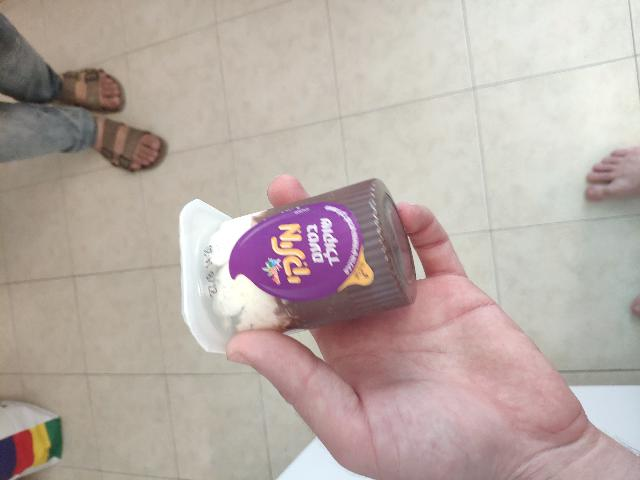milky: (176, 196, 449, 339)
